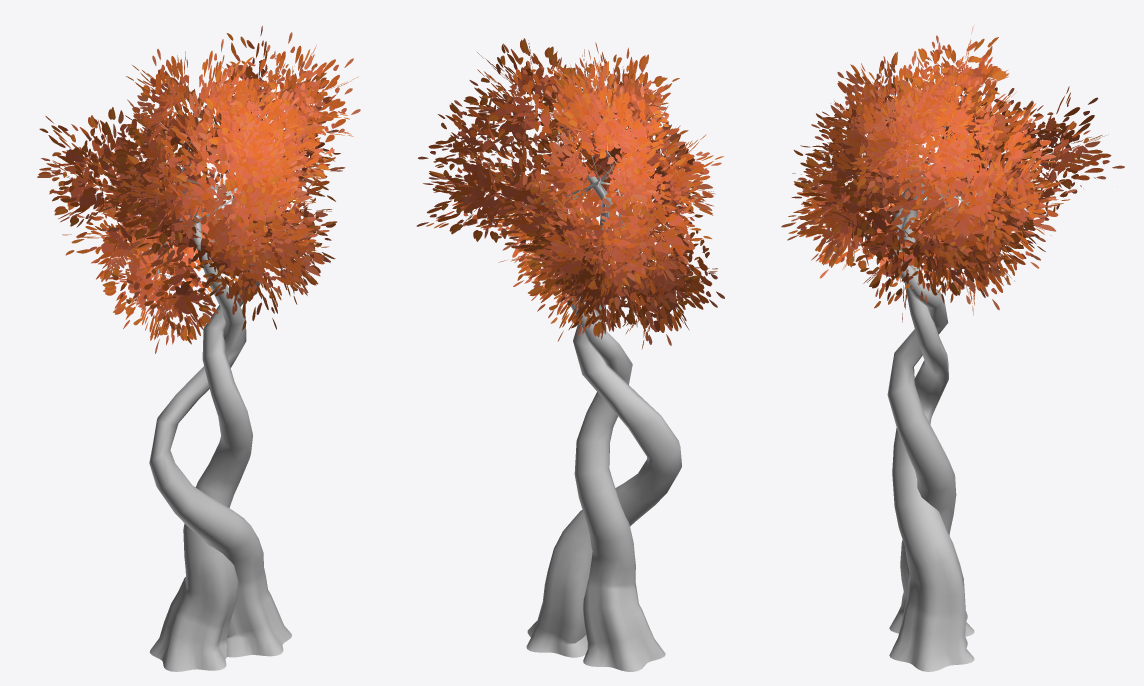
Rendered from SM_tree02.fbx.
The picture shows the model from 3 angles, left to right: view 1: azimuth 30°, elevation 25°; view 2: azimuth 150°, elevation 25°; view 3: azimuth 270°, elevation 25°; orthographic projection.
Parts seen in each view (by area): view 1: SM_tree02; view 2: SM_tree02; view 3: SM_tree02.
Boxes of the visible parts, bbox=[...] form: SM_tree02: bbox=[37, 26, 360, 671]; SM_tree02: bbox=[416, 38, 724, 671]; SM_tree02: bbox=[781, 26, 1124, 671].
Bounding box in the file's own units: 702 × 1338 × 712.
